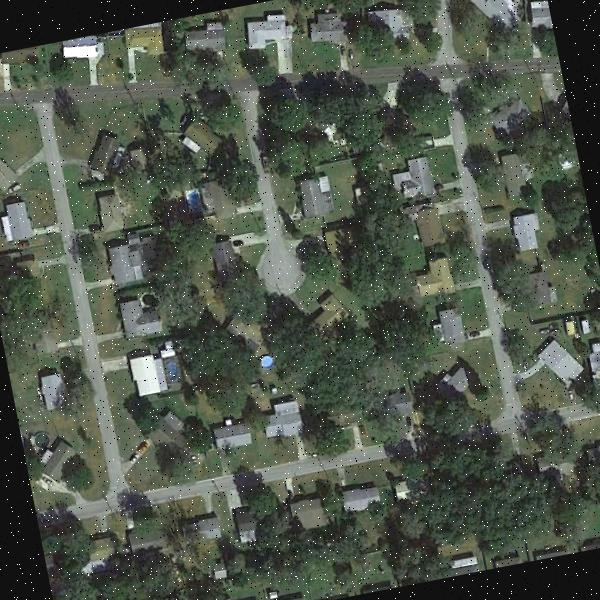Buildings: (246, 8, 298, 76), (539, 341, 584, 390), (390, 152, 434, 198), (101, 238, 140, 288), (46, 429, 73, 495), (120, 22, 166, 60), (298, 177, 339, 218), (133, 350, 170, 395), (81, 135, 116, 177), (123, 298, 163, 334), (66, 34, 106, 70), (0, 201, 37, 238), (422, 264, 456, 300), (518, 212, 546, 255), (121, 518, 160, 548), (292, 496, 324, 530), (260, 409, 296, 438), (415, 211, 444, 245), (473, 0, 514, 19), (219, 425, 251, 446), (349, 488, 380, 509)
